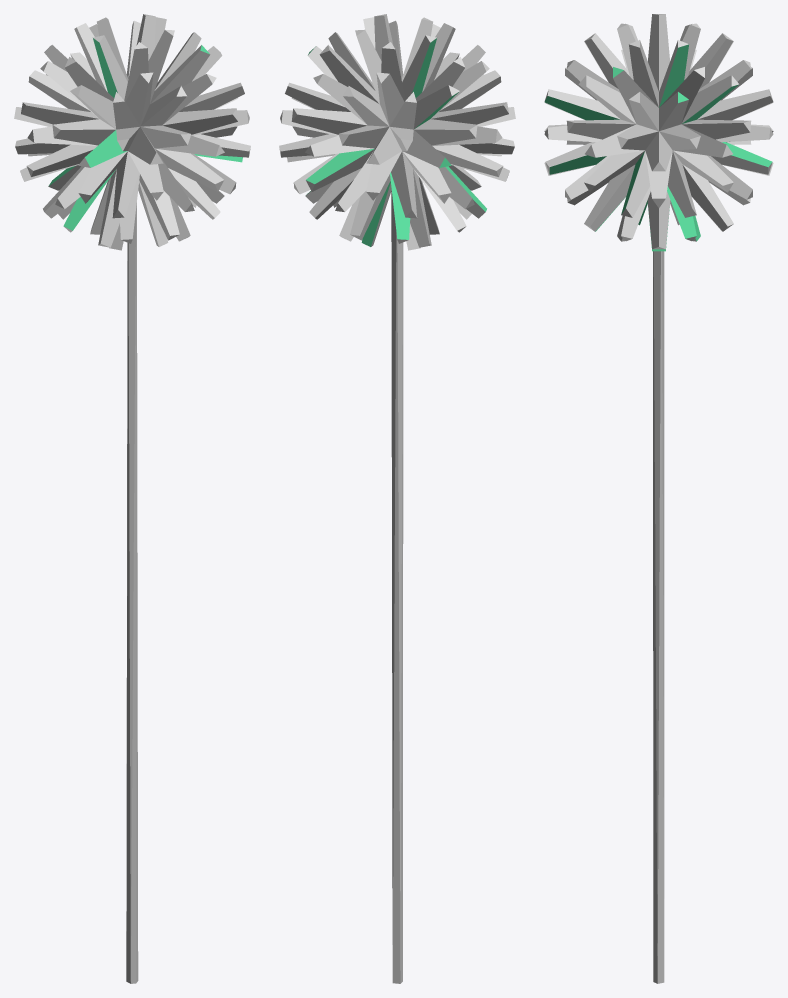
The model's file is floaty02.fbx.
The picture shows the model from 3 angles, left to right: view 1: azimuth 30°, elevation 25°; view 2: azimuth 150°, elevation 25°; view 3: azimuth 270°, elevation 25°; orthographic projection.
Parts seen in each view (by area): view 1: Icosphere, Cylinder.001; view 2: Icosphere, Cylinder.001; view 3: Icosphere, Cylinder.001.
Part boxes in pixels (x1,y1,x2,y2): Icosphere: (14,14,250,250); Cylinder.001: (126,203,138,983); Icosphere: (279,14,515,250); Cylinder.001: (391,191,403,983); Icosphere: (544,14,773,251); Cylinder.001: (653,251,664,983).
Bounding box in the file's own units: 538 × 2390 × 521.
